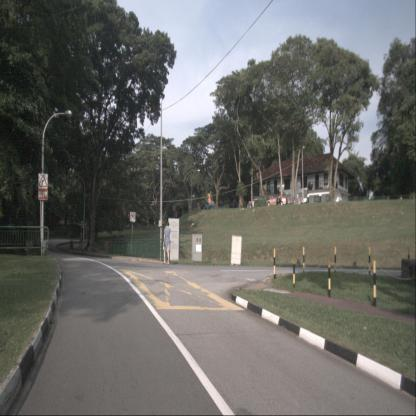human-pedestrian-adult: (163, 221, 170, 265), (64, 214, 68, 234)
vehicle-car: (266, 194, 288, 207)
